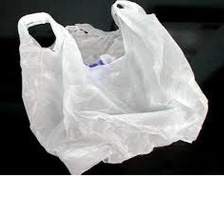plastic_bag: (15, 0, 209, 177)
